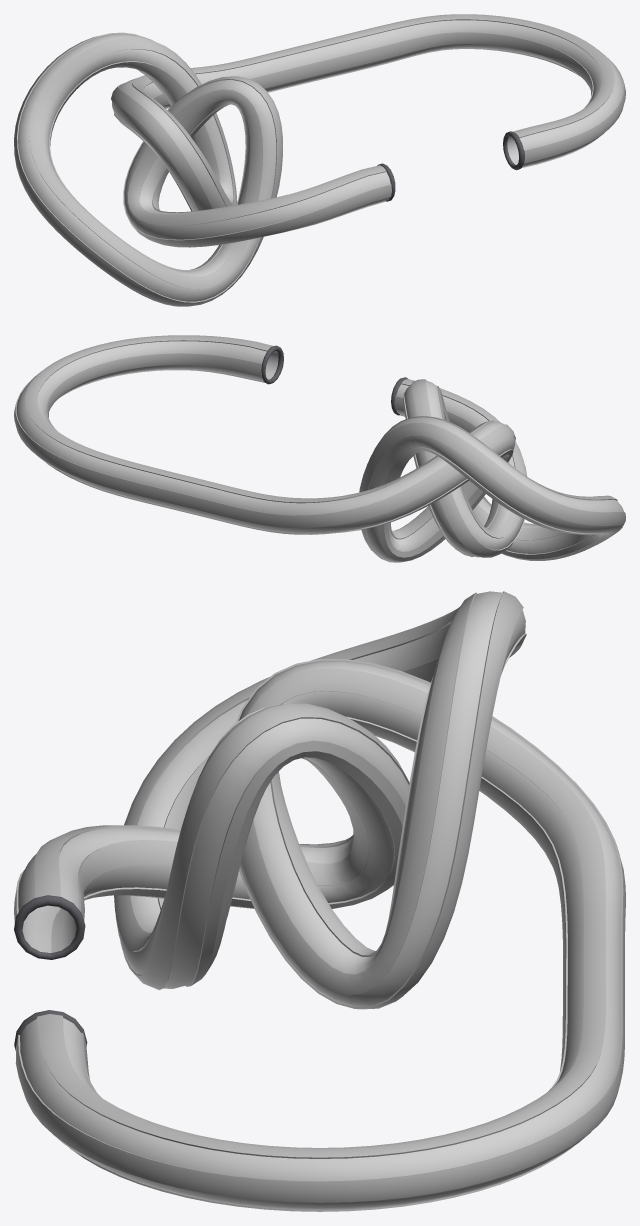
File: Knot 3.fbx
The picture shows the model from 3 angles, top to bottom: view 1: azimuth 30°, elevation 25°; view 2: azimuth 150°, elevation 25°; view 3: azimuth 270°, elevation 25°; orthographic projection. The views are drawn at different scales.
Parts seen in each view (by area): view 1: detail0; view 2: detail0; view 3: detail0.
Boxes of the visible parts, x1,y1,x2,y2 form: detail0: (14,14,625,306); detail0: (14,335,625,562); detail0: (14,591,625,1211).
Size of the model in its own units: 1631 by 546 by 821.
